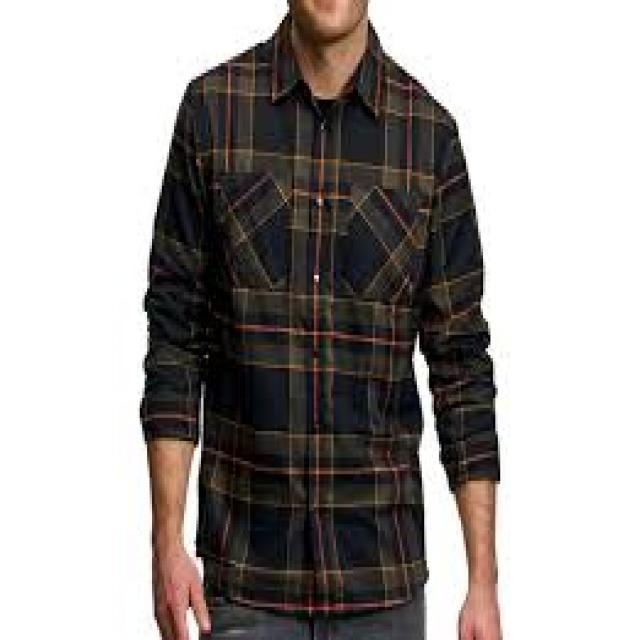plaid: (142, 32, 496, 600)
